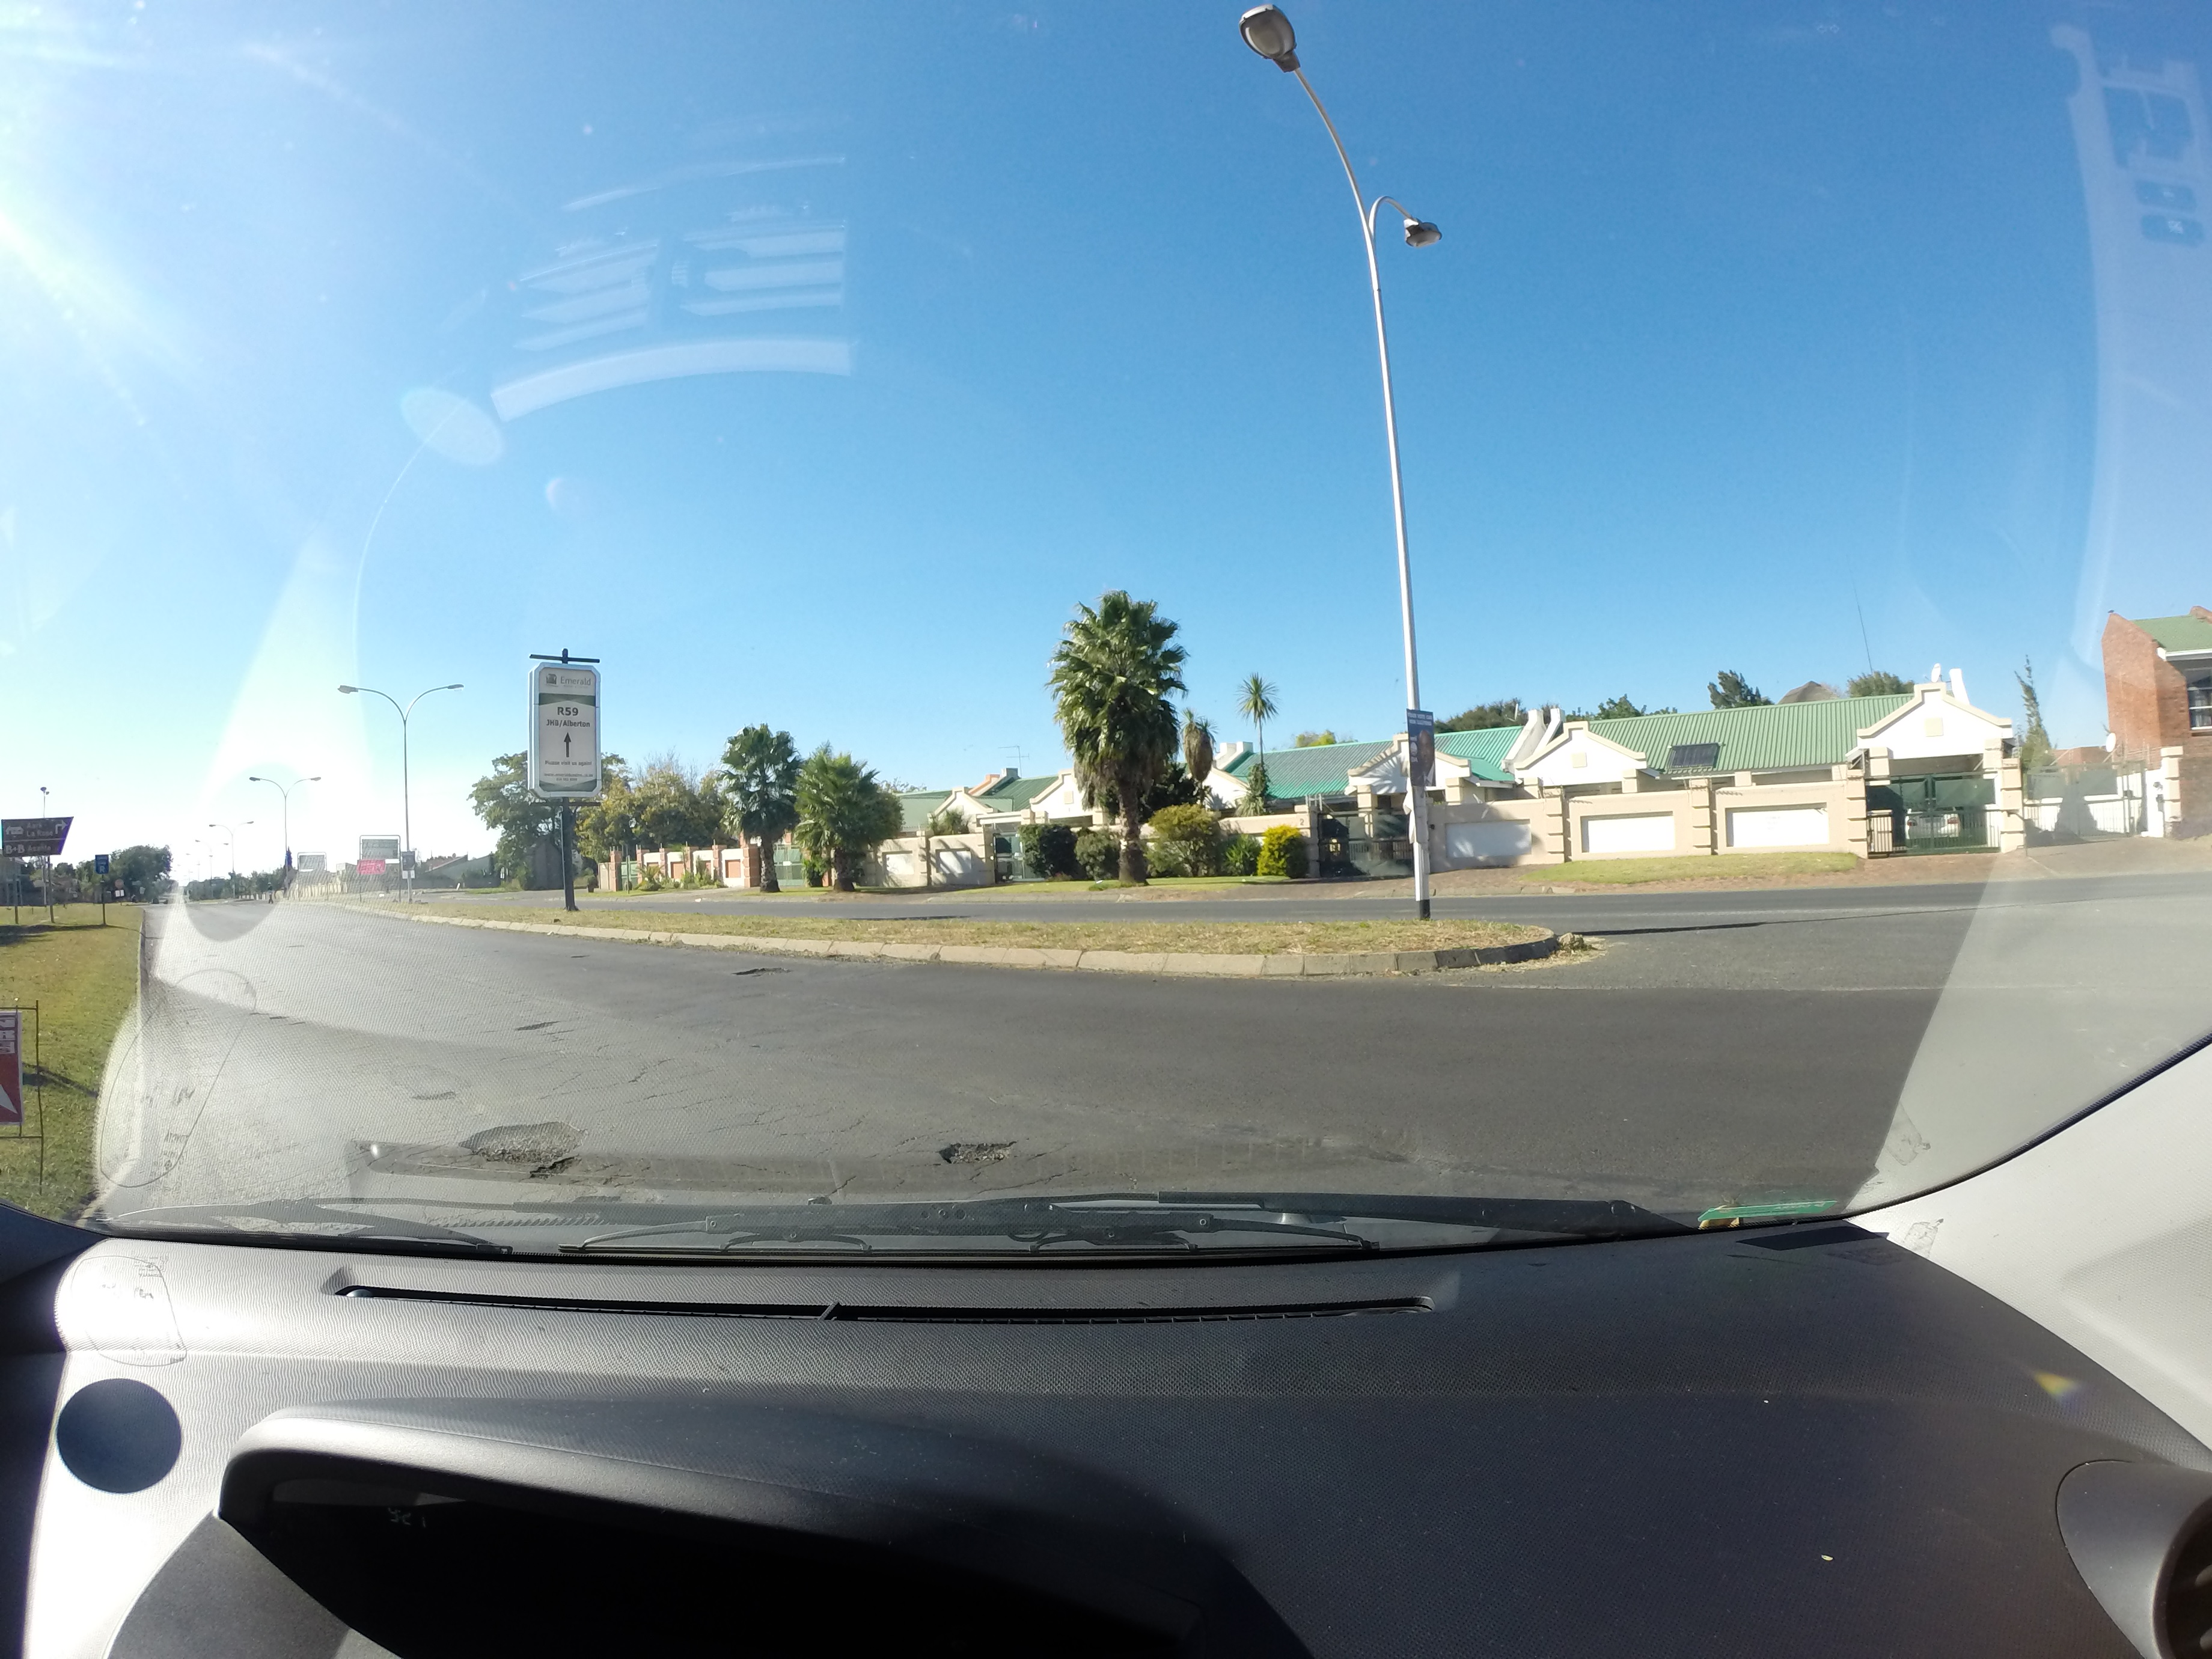pothole: (416, 1096, 590, 1195)
